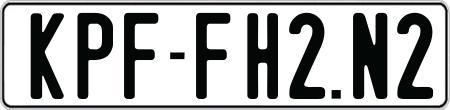2: (289, 12, 330, 98), (397, 11, 435, 103)
F: (195, 13, 232, 104), (124, 12, 159, 98)
H: (247, 13, 278, 100)
K: (30, 12, 66, 99)
N: (352, 12, 388, 102)
P: (77, 12, 115, 101)
